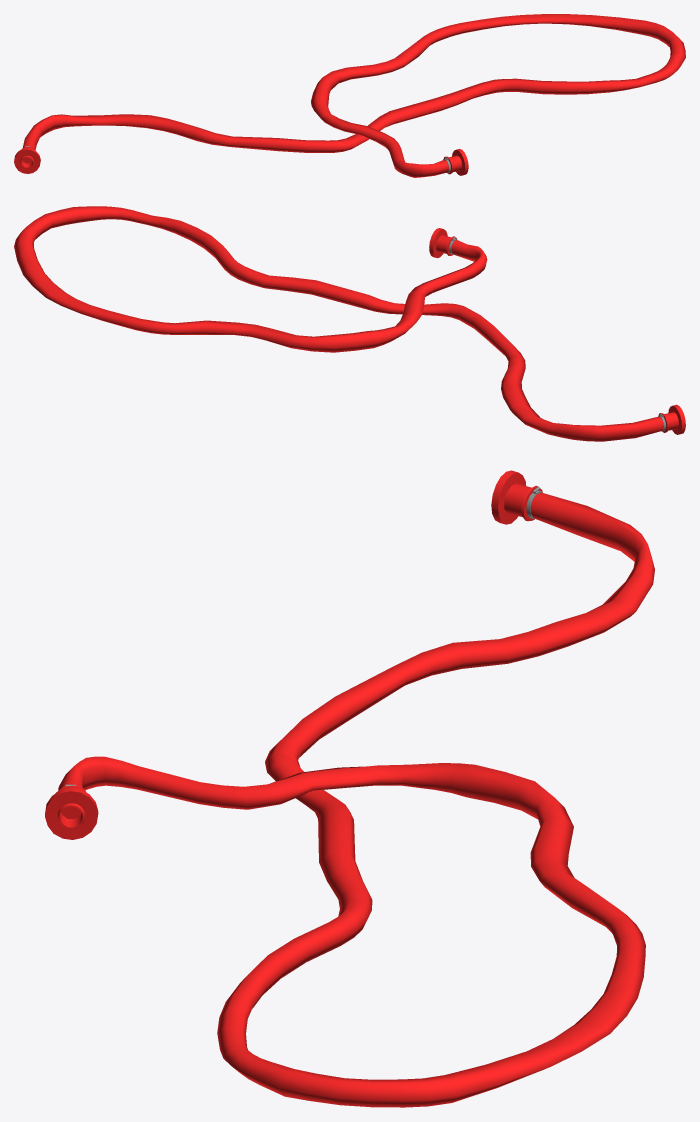
Rendered from Tube_Industrial_Scifi_A.fbx.
3 renders of one model, top to bottom at view 1: azimuth 30°, elevation 25°; view 2: azimuth 150°, elevation 25°; view 3: azimuth 270°, elevation 25°, orthographic. The views are drawn at different scales.
Parts seen in each view (by area): view 1: Geom_Tube_Industrial_Scifi_A_LOD00; view 2: Geom_Tube_Industrial_Scifi_A_LOD00; view 3: Geom_Tube_Industrial_Scifi_A_LOD00.
Boxes of the visible parts, bbox=[...] form: Geom_Tube_Industrial_Scifi_A_LOD00: bbox=[14, 14, 685, 177]; Geom_Tube_Industrial_Scifi_A_LOD00: bbox=[14, 206, 685, 441]; Geom_Tube_Industrial_Scifi_A_LOD00: bbox=[45, 470, 654, 1107].
Size of what is drawn, in the model's own units: 800 by 338 by 30.29.
